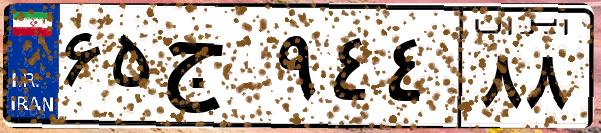4: (385, 28, 445, 110), (330, 28, 385, 110)
5: (110, 28, 158, 98)
6: (57, 26, 110, 100)
8: (475, 38, 525, 113), (525, 38, 570, 115)
9: (270, 28, 330, 110)
ج: (158, 20, 270, 120)
